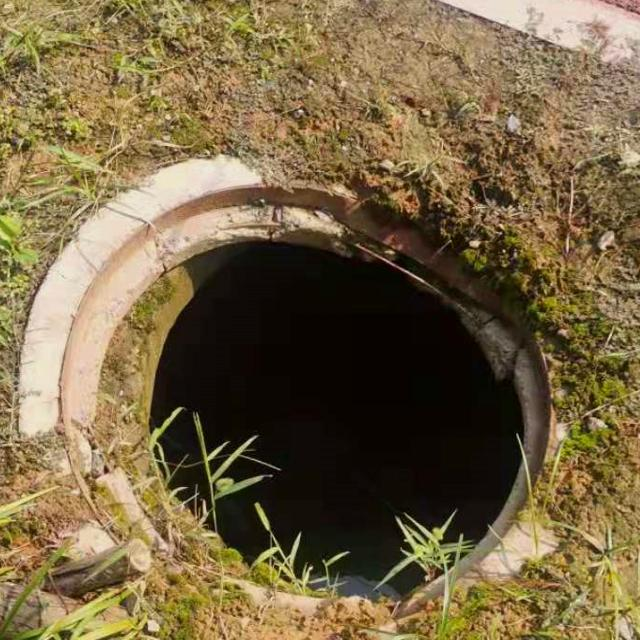lose: (18, 150, 571, 611)
